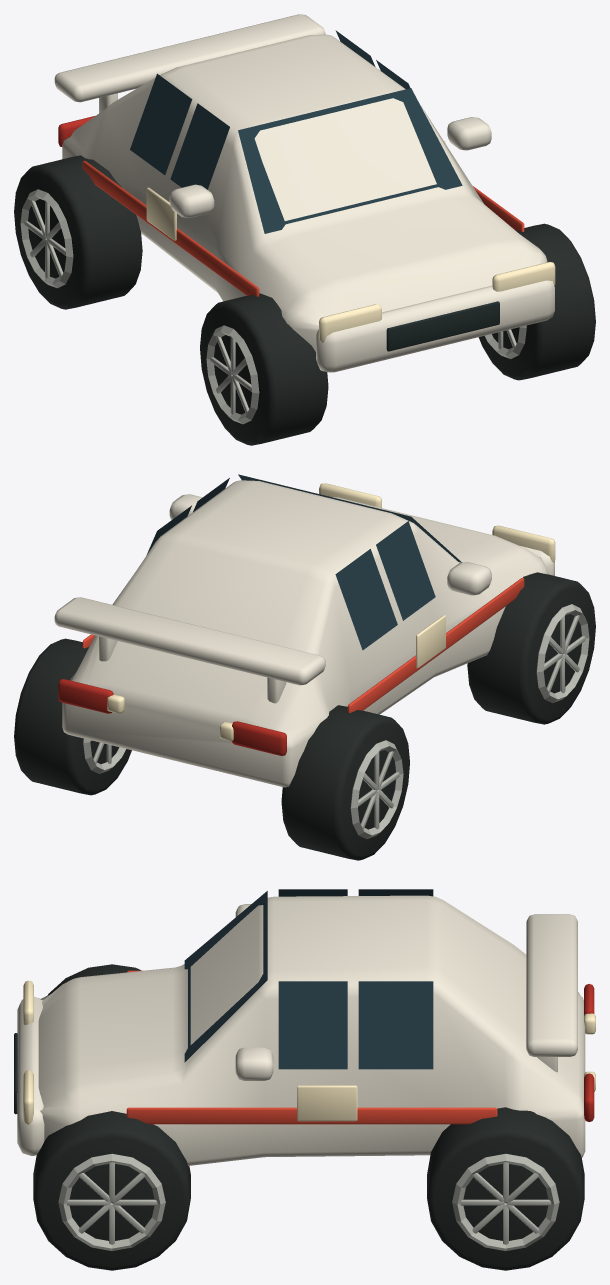
File: car-6.glb
3 renders of one model, top to bottom at view 1: azimuth 30°, elevation 25°; view 2: azimuth 150°, elevation 25°; view 3: azimuth 270°, elevation 25°, orthographic. The views are drawn at different scales.
Parts seen in each view (by area): view 1: body_surface.006, side_window.006, flat_tyre.025, flat_tyre.024, flat_tyre.026, rally_stripe.006, rim.024, rim.025, intake.006, headlamp_-0.006, headlamp_0.006, door_number.006 (+1 smaller); view 2: body_surface.006, flat_tyre.025, flat_tyre.024, flat_tyre.027, side_window.006, rim.025, rim.024, rally_stripe.006, taillamp_-0.006, taillamp_0.006, door_number.006, headlamp_-0.006 (+2 smaller); view 3: body_surface.006, side_window.006, flat_tyre.027, flat_tyre.026, rally_stripe.006, rim.026, rim.027, door_number.006, flat_tyre.024, headlamp_0.006, taillamp_0.006.
Boxes of the visible parts, x1,y1,x2,y2 form: body_surface.006: (54,14,554,372); side_window.006: (130,30,462,233); flat_tyre.025: (14,155,142,309); flat_tyre.024: (200,293,328,445); flat_tyre.026: (478,223,595,380); rally_stripe.006: (82,160,524,296); rim.024: (206,325,259,424); rim.025: (20,189,73,288); intake.006: (386,301,499,351); headlamp_-0.006: (319,304,381,342); headlamp_0.006: (492,262,555,291); door_number.006: (146,140,445,240); body_surface.006: (54,480,554,787); flat_tyre.025: (281,705,409,860); flat_tyre.024: (467,572,595,724); flat_tyre.027: (14,638,131,795); side_window.006: (147,474,461,650); rim.025: (350,740,403,839); rim.024: (536,604,589,703); rally_stripe.006: (82,577,524,712); taillamp_-0.006: (232,721,286,755); taillamp_0.006: (58,679,113,713); door_number.006: (416,615,445,668); headlamp_-0.006: (492,525,555,562); body_surface.006: (17,895,585,1165); side_window.006: (184,889,433,1069); flat_tyre.027: (427,1107,584,1270); flat_tyre.026: (33,1111,190,1270); rally_stripe.006: (126,970,497,1124); rim.026: (58,1153,165,1250); rim.027: (452,1153,559,1250); door_number.006: (297,1085,357,1121); flat_tyre.024: (47,964,141,995); headlamp_0.006: (23,1070,33,1124); taillamp_0.006: (584,1073,594,1121).
Size of the model in its own units: 2.72 by 1.86 by 3.84.
